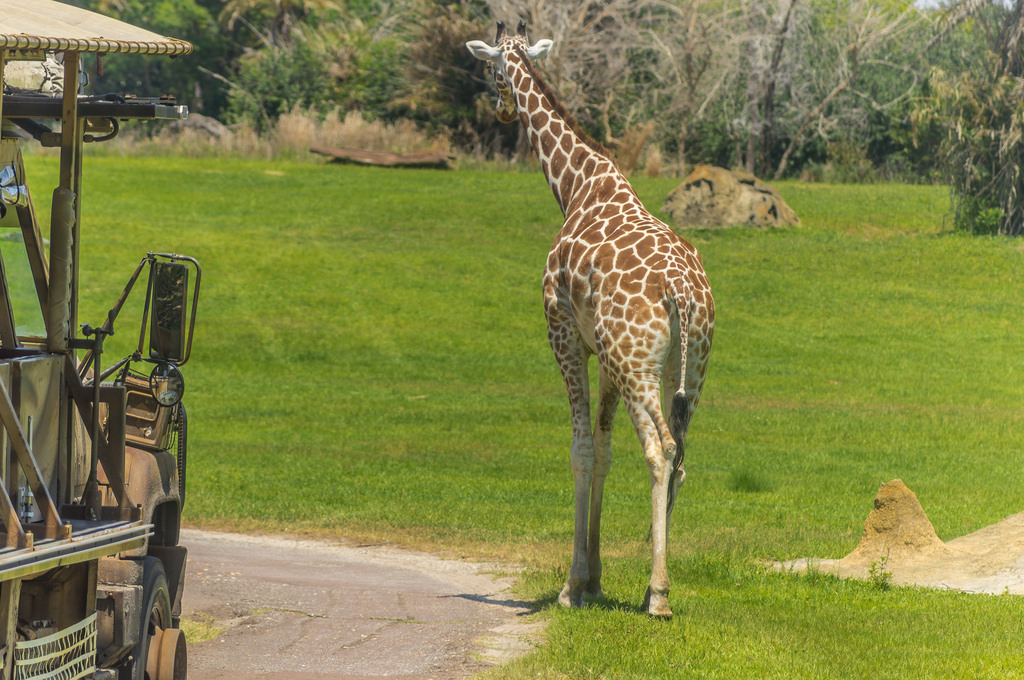giraffe: (449, 20, 756, 616)
